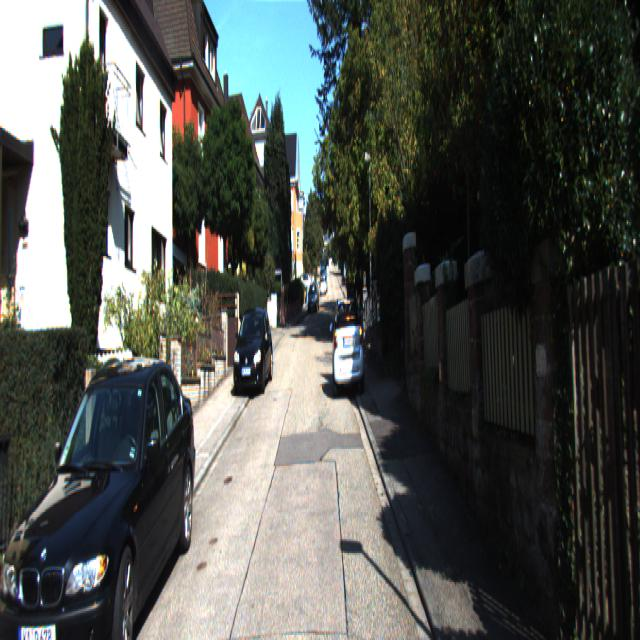Car: (0, 350, 200, 638), (230, 309, 274, 399), (332, 291, 366, 398)
